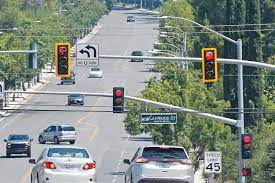red: (202, 48, 218, 82), (54, 43, 70, 77), (241, 134, 253, 159), (113, 87, 124, 113), (242, 168, 252, 176)
